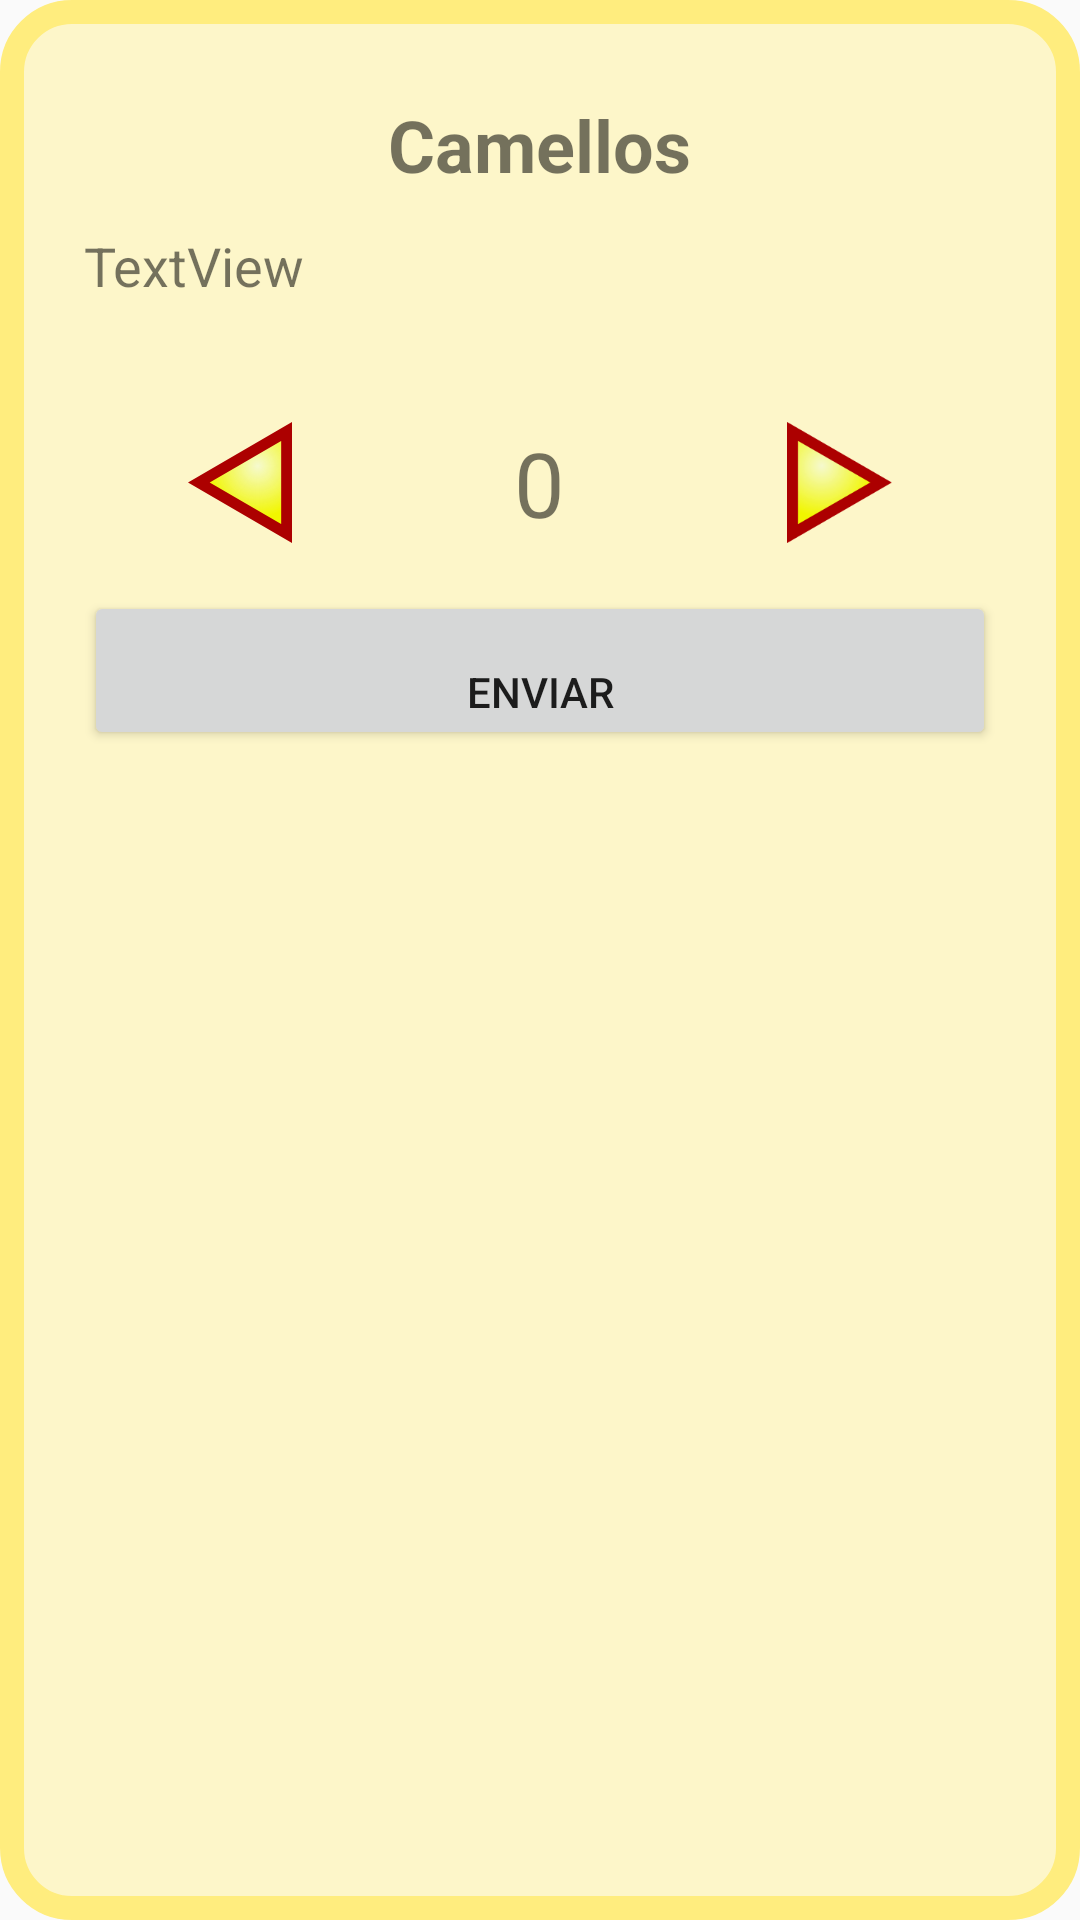

Screen size 1080 × 1920. Icon name, then its box in pixels as (x1, y1, x2, y2):
Decrementar: (188, 422, 292, 543)
